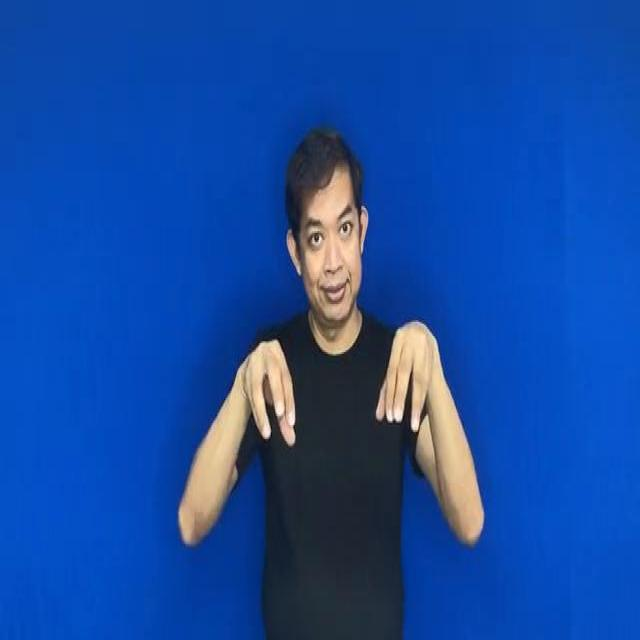egg: (225, 299, 446, 459)
